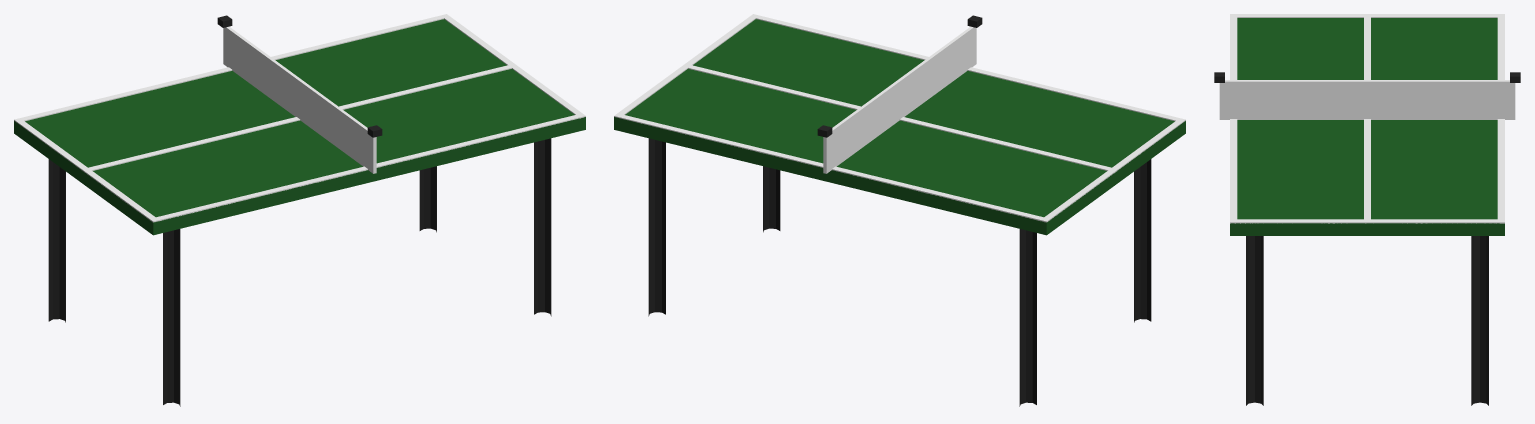
The model's file is pingisbord.glb.
The picture shows the model from 3 angles, left to right: view 1: azimuth 30°, elevation 25°; view 2: azimuth 150°, elevation 25°; view 3: azimuth 270°, elevation 25°; orthographic projection.
Visible parts, largest first — view 1: pingisbord; view 2: pingisbord; view 3: pingisbord.
Boxes of the visible parts, x1,y1,x2,y2 form: pingisbord: (14,14,585,406); pingisbord: (614,14,1185,406); pingisbord: (1214,14,1520,405).
Size of the model in its own units: 1.4 by 0.7601 by 0.87.
